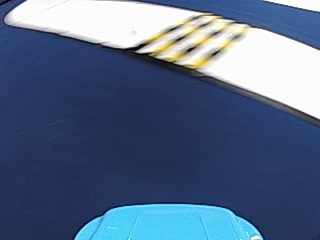bump: (113, 13, 245, 71)
